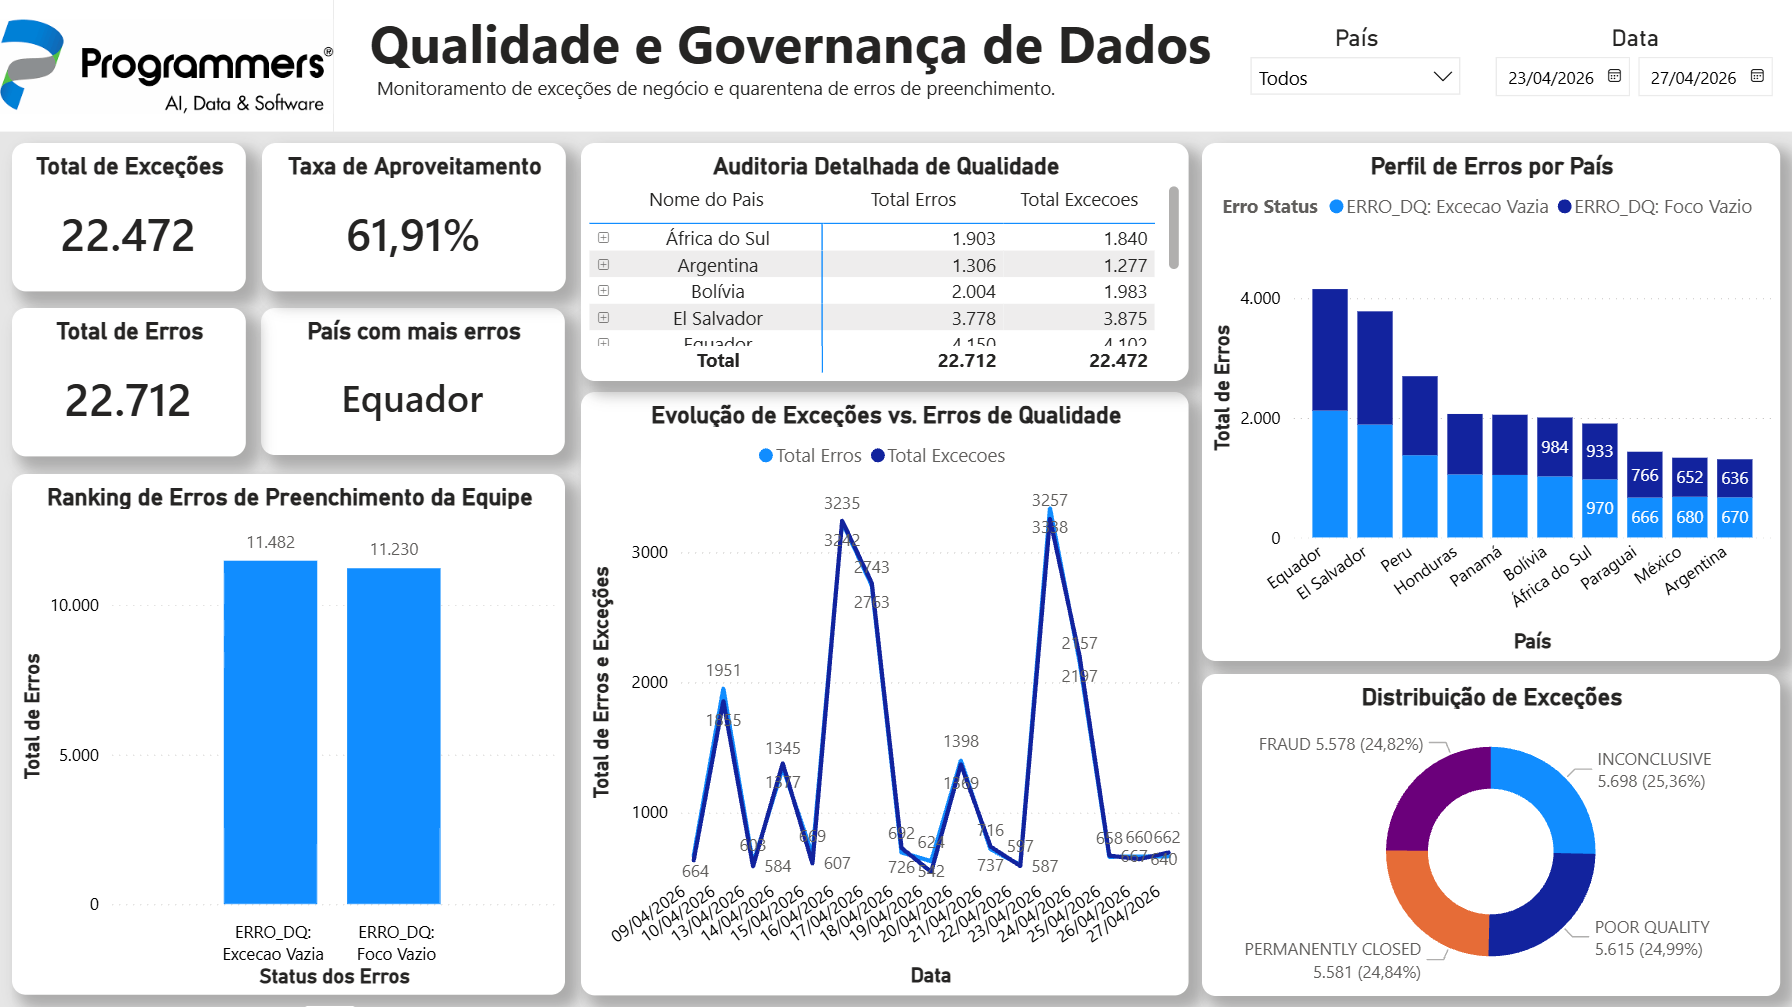

What the dashboard file says about the page in this screenshot:
{"tool":"powerbi","page":{"name":"Qualidade e Governança de Dados","canvas":[1280,720],"ordinal":1},"visuals":[{"type":"image","box":[0,0,238.3,94.3],"z":0},{"type":"textbox","box":[238.3,0,1041.7,94.3],"z":1000},{"type":"cardVisual","title":"País com mais erros","fields":{"Data":["Min(Dim_Pais.Nome do Pais)"]},"box":[186.7,219.8,216.9,105],"z":2000},{"type":"slicer","title":"País","fields":{"Values":["Dim_Pais.Nome do Pais"]},"box":[882.2,10.7,172.2,72],"z":3000},{"type":"slicer","title":"Data","fields":{"Values":["log_execucao_pipeline.data_hora"]},"box":[1054.3,10.7,225.7,72],"z":4000},{"type":"cardVisual","title":"Total de Exceções","fields":{"Data":["qualidade_dados.Total Excecoes 2"]},"box":[8.7,102.3,166.5,105.6],"z":5000},{"type":"cardVisual","title":"Total de Erros","fields":{"Data":["qualidade_dados.Total Erros 2"]},"box":[8.7,219.9,166.5,105.6],"z":6000},{"type":"cardVisual","title":"Taxa de Aproveitamento","fields":{"Data":["qualidade_dados.Taxa de Aproveitamento 2"]},"box":[187.2,102.3,216.6,105.6],"z":7000},{"type":"columnChart","title":"Ranking de Erros de Preenchimento da Equipe","fields":{"Category":["qualidade_dados.status_linha"],"Y":["qualidade_dados.Total Erros 2"]},"box":[8.7,338.5,395.1,372.2],"z":8000},{"type":"lineChart","title":"Evolução de Exceções vs. Erros de Qualidade","fields":{"Category":["Dim_Calendario.Date"],"Y":["qualidade_dados.Total Erros 2","qualidade_dados.Total Excecoes 2"]},"box":[414.7,279.7,434.3,431],"z":9000},{"type":"pivotTable","title":"Auditoria Detalhada de Qualidade","fields":{"Rows":["Dim_Pais.Nome do Pais","qualidade_dados.status_linha"],"Values":["qualidade_dados.Total Erros 2","qualidade_dados.Total Excecoes 2"]},"box":[414.7,102.3,434.3,169.8],"z":10000},{"type":"columnChart","title":"Perfil de Erros por País","fields":{"Category":["Dim_Pais.Nome do Pais"],"Y":["qualidade_dados.Total Erros 2"],"Series":["qualidade_dados.status_linha"]},"box":[858.8,102.3,412.5,370.1],"z":11000},{"type":"donutChart","title":"Distribuição de Exceções","fields":{"Category":["excecoes_detalhe.exception_cases"],"Y":["qualidade_dados.Total Excecoes 2"]},"box":[858.8,481.1,412.5,229.7],"z":12000}]}

Visuals, with their boxes in screenshot pixels (x1, y1, x2, y2), scaled from the page's 1280x720 canvas onto the 1792x1007 screenshot:
image: 0, 0, 334, 132
textbox: 334, 0, 1791, 132
"País com mais erros" cardVisual: 261, 307, 565, 454
"País" slicer: 1235, 15, 1476, 116
"Data" slicer: 1476, 15, 1791, 116
"Total de Exceções" cardVisual: 12, 143, 245, 291
"Total de Erros" cardVisual: 12, 308, 245, 455
"Taxa de Aproveitamento" cardVisual: 262, 143, 565, 291
"Ranking de Erros de Preenchimento da Equipe" columnChart: 12, 473, 565, 994
"Evolução de Exceções vs. Erros de Qualidade" lineChart: 581, 391, 1189, 994
"Auditoria Detalhada de Qualidade" pivotTable: 581, 143, 1189, 381
"Perfil de Erros por País" columnChart: 1202, 143, 1780, 661
"Distribuição de Exceções" donutChart: 1202, 673, 1780, 994
